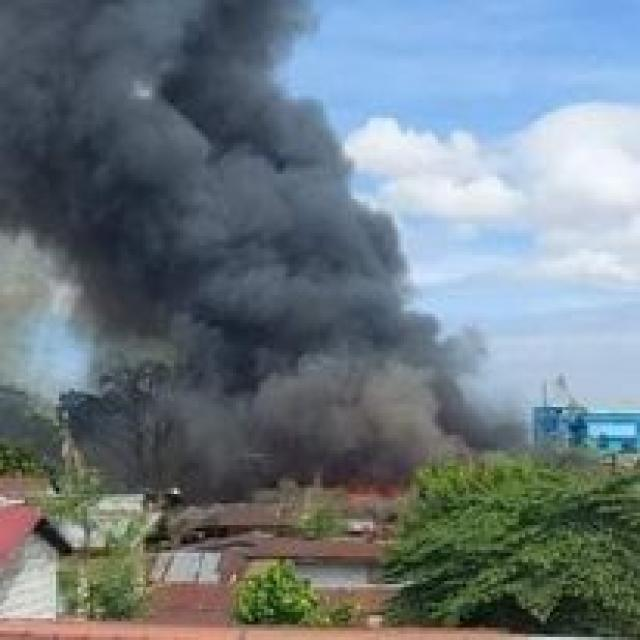Smoke: (57, 232, 480, 459), (0, 4, 314, 237)
